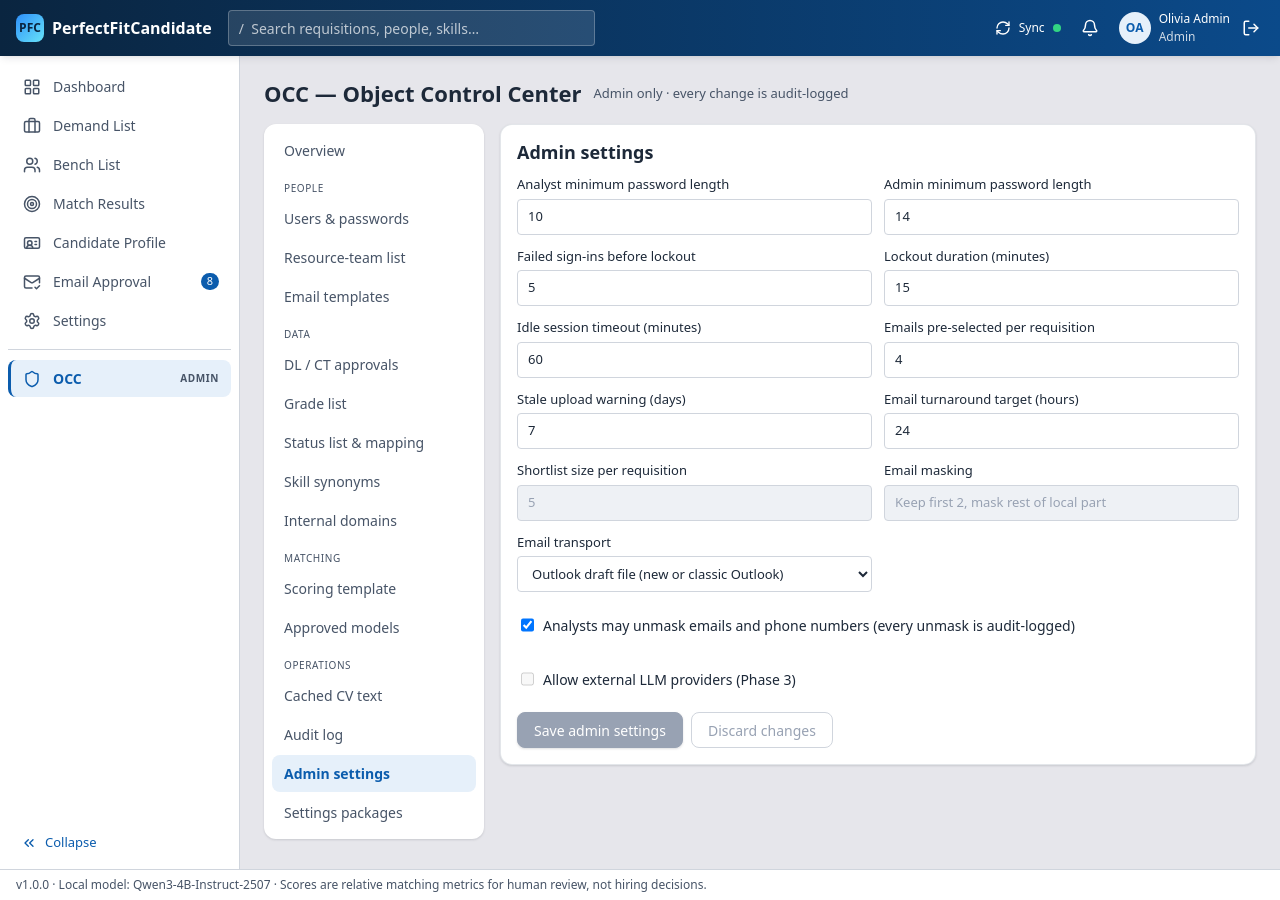
it: OCC screens › blocks out-of-range admin settings before saving
Replace the text in the number field labelled "Admin minimum password length" with "8": x=1062, y=216 [884,198,1239,234]
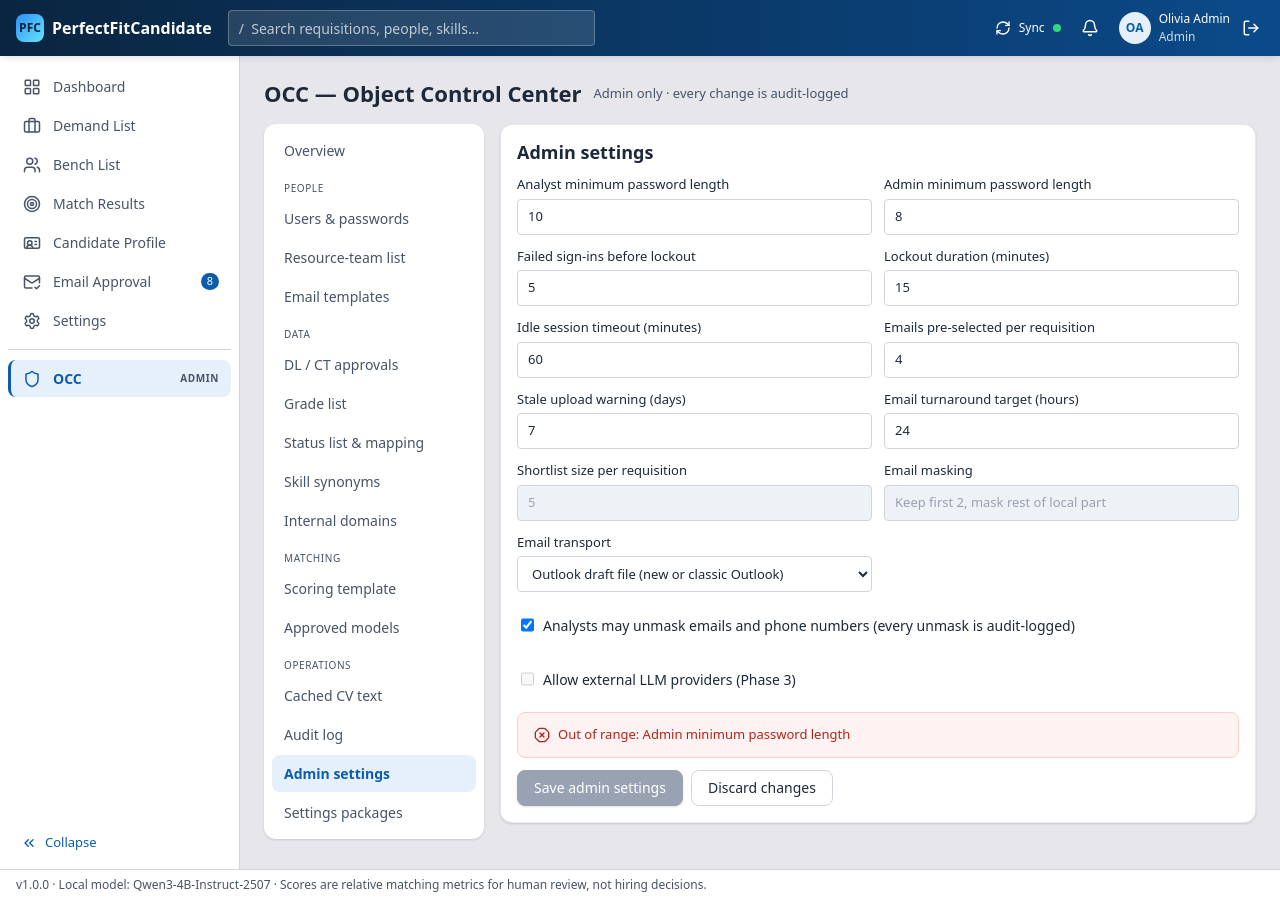
Expected: the button "Save admin settings" is disabled, [517,770,683,806]
Result: the text "Out of range: Admin minimum password length" is shown at [558,725,850,744]
